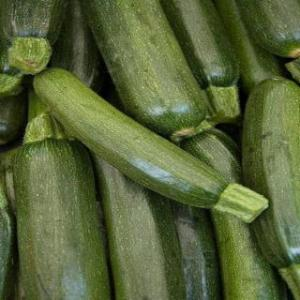zucchini: (4, 134, 120, 300)
